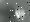person: (21, 8, 25, 22), (16, 9, 20, 20)
